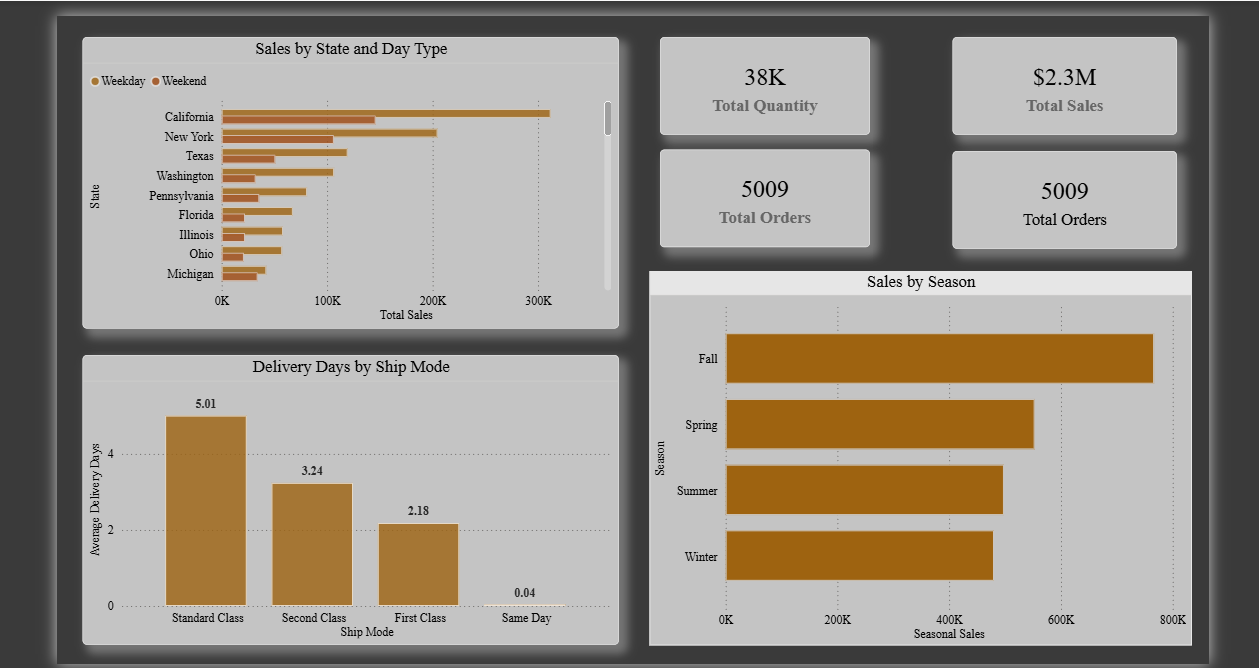

The dashboard page shown, as its layout file describes it:
{"tool":"powerbi","page":{"name":"Page 4","canvas":[1280,720],"ordinal":3},"visuals":[{"type":"barChart","title":"Sales by Season","fields":{"Category":["Sample - Superstore.Season"],"Y":["Sample - Superstore.Seasonal Sales"]},"box":[659,283.4,602.4,416.1],"z":0},{"type":"card","fields":{"Values":["Sample - Superstore.Total Quantity"]},"box":[670.4,22.7,233.2,108.5],"z":1000},{"type":"card","fields":{"Values":["Sample - Superstore.Total Orders"]},"box":[670.4,149,233.2,108.5],"z":4000},{"type":"card","fields":{"Values":["Sample - Superstore.Total Orders"]},"box":[994.2,150.6,249.4,108.5],"z":5000},{"type":"card","fields":{"Values":["Sample - Superstore.Total Sales"]},"box":[994.2,22.7,249.4,108.5],"z":6000},{"type":"clusteredColumnChart","title":"Delivery Days by Ship Mode","fields":{"Y":["Sample - Superstore.Average Delivery Days"],"Category":["Sample - Superstore.Ship Mode"]},"box":[27.5,377.3,595.9,322.2],"z":11000},{"type":"clusteredBarChart","title":"Sales by State and Day Type","fields":{"Category":["Sample - Superstore.State"],"Y":["Sample - Superstore.Total Sales"],"Series":["Sample - Superstore.Day Type"]},"box":[27.5,22.7,595.9,323.8],"z":14000}]}

Visuals, with their boxes in screenshot pixels (x1, y1, x2, y2):
"Sales by Season" barChart: 656,269,1208,651
card - Sample - Superstore.Total Quantity: 667,31,880,130
card - Sample - Superstore.Total Orders: 667,146,880,246
card - Sample - Superstore.Total Orders: 963,148,1192,247
card - Sample - Superstore.Total Sales: 963,31,1192,130
"Delivery Days by Ship Mode" clusteredColumnChart: 78,355,624,651
"Sales by State and Day Type" clusteredBarChart: 78,31,624,327
